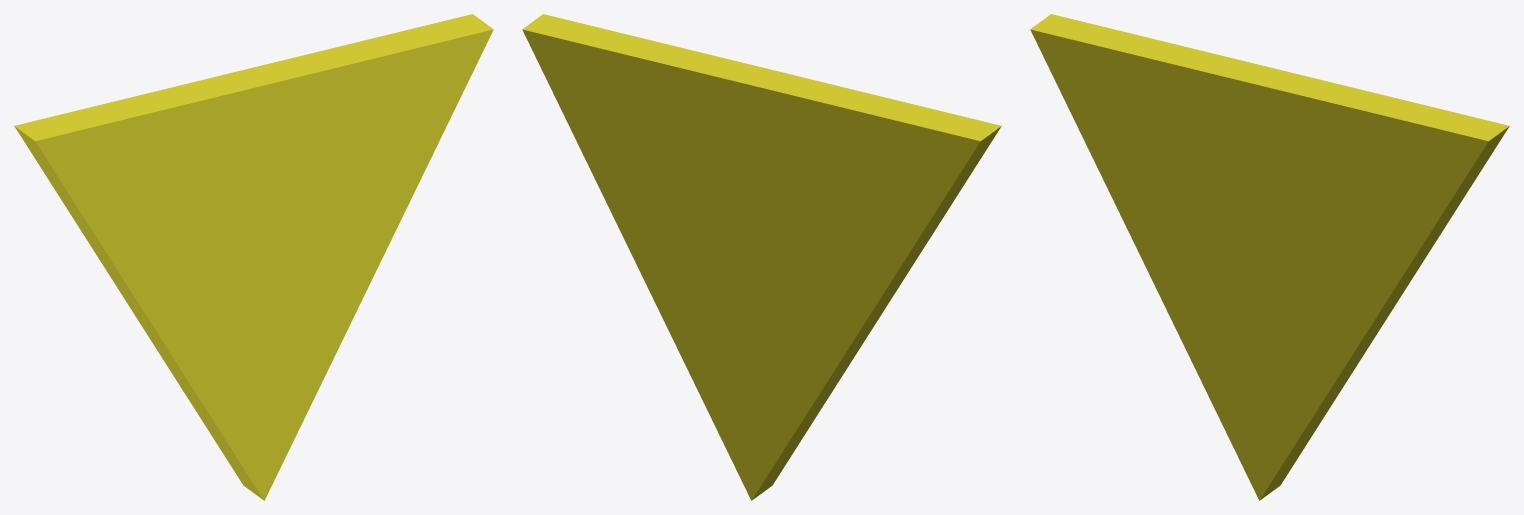
File: indicador.fbx
3 renders of one model, left to right at view 1: azimuth 30°, elevation 25°; view 2: azimuth 150°, elevation 25°; view 3: azimuth 330°, elevation 25°, orthographic.
Visible parts, largest first — view 1: indicador; view 2: indicador; view 3: indicador.
Boxes of the visible parts, x1=… form: indicador: x1=14, y1=14, x2=493, y2=500; indicador: x1=522, y1=14, x2=1001, y2=500; indicador: x1=1030, y1=14, x2=1509, y2=500.
Bounding box in the file's own units: 173 × 150 × 13.78.
